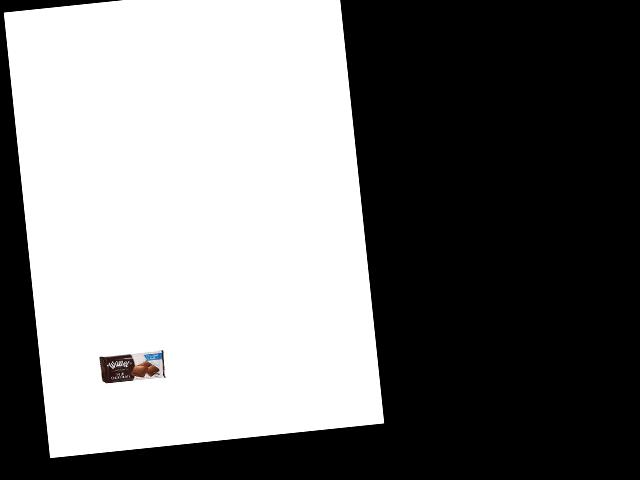chocolate: (100, 349, 166, 385)
